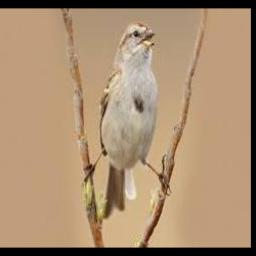Sparrow: (84, 22, 171, 218)
